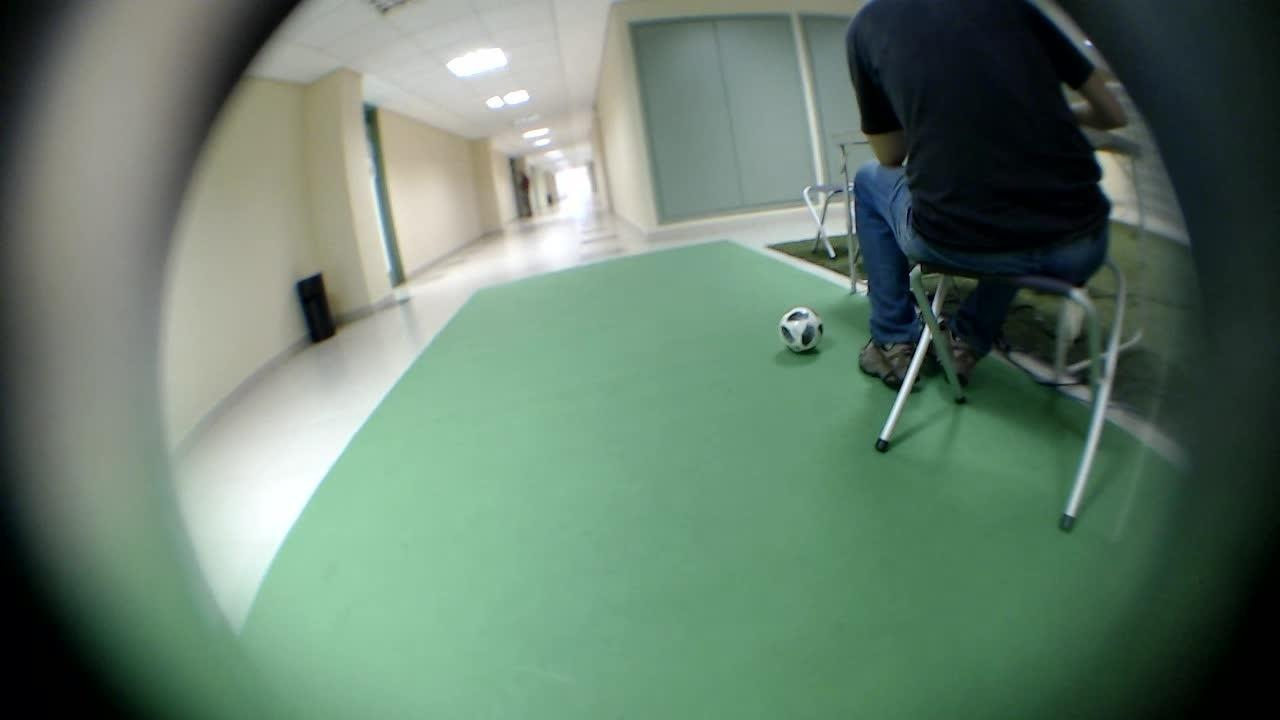ball: (765, 297, 823, 355)
